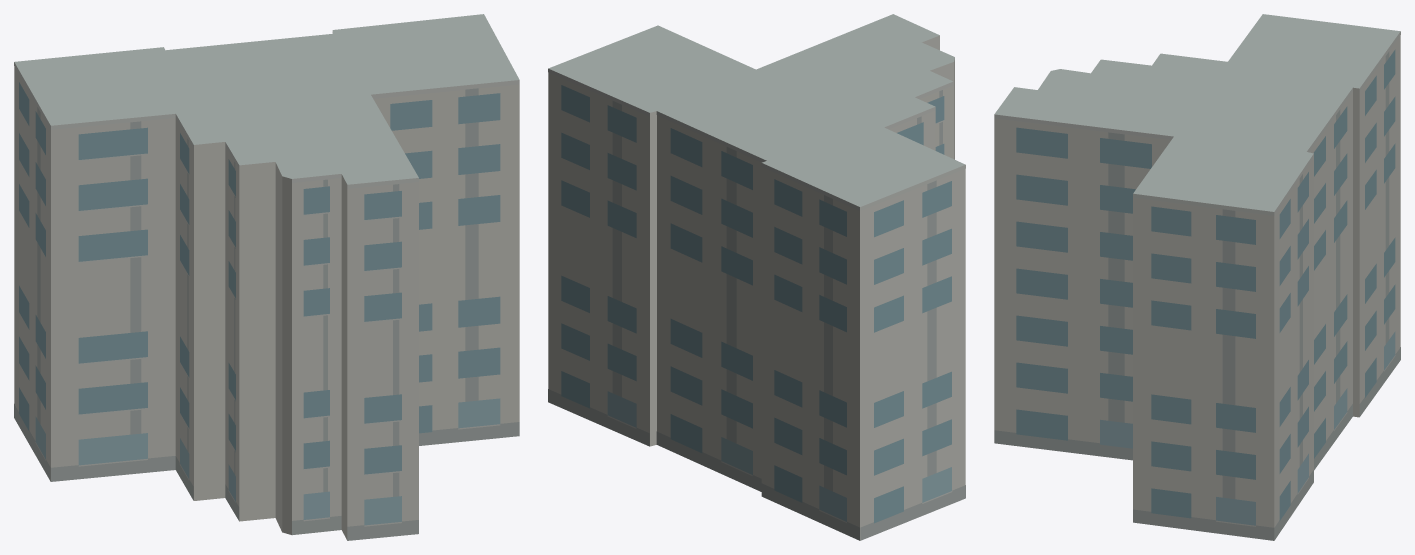
Rendered from survey-upis-33017163.glb.
3 renders of one model, left to right at view 1: azimuth 30°, elevation 25°; view 2: azimuth 150°, elevation 25°; view 3: azimuth 270°, elevation 25°, orthographic. The views are drawn at different scales.
Visible parts, largest first — view 1: survey-upis-33017163.tmp; view 2: survey-upis-33017163.tmp; view 3: survey-upis-33017163.tmp.
Part boxes in pixels (x1=…): survey-upis-33017163.tmp: x1=14, y1=14, x2=519, y2=540; survey-upis-33017163.tmp: x1=548, y1=14, x2=965, y2=540; survey-upis-33017163.tmp: x1=994, y1=14, x2=1400, y2=540.
Size of the model in its own units: 26.22 by 20.3 by 22.75.
